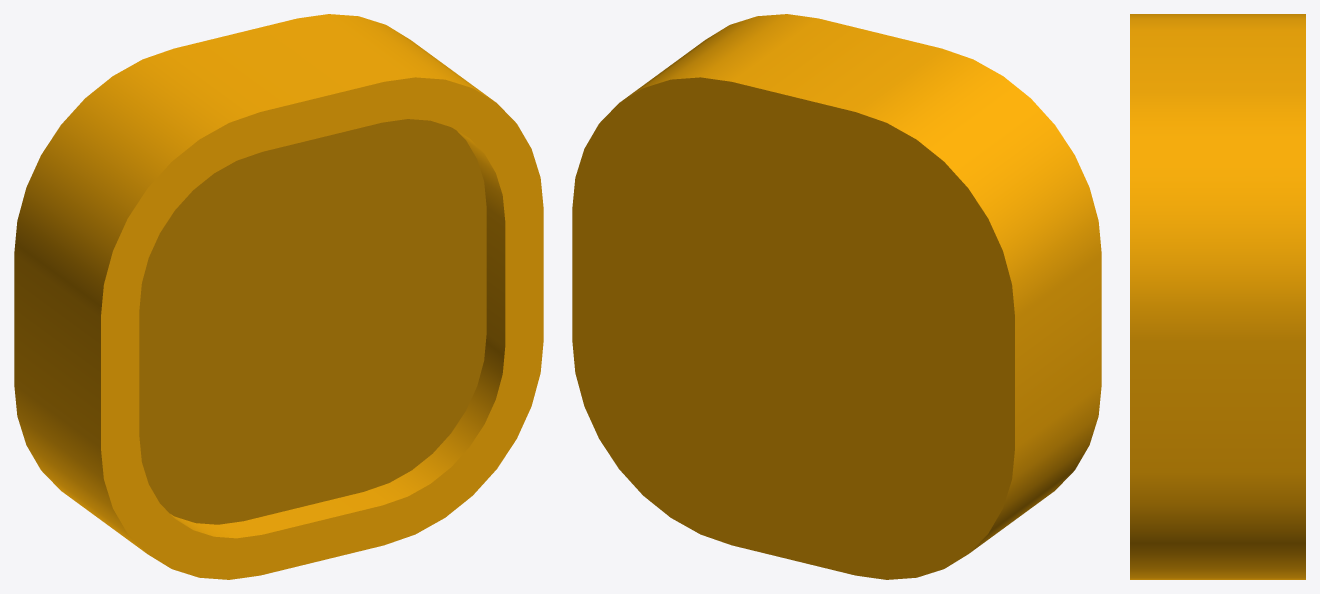
Rendered from day_square.glb.
3 renders of one model, left to right at view 1: azimuth 30°, elevation 25°; view 2: azimuth 150°, elevation 25°; view 3: azimuth 270°, elevation 25°, orthographic.
Visible parts, largest first — view 1: Cube.004; view 2: Cube.004; view 3: Cube.004.
Boxes of the visible parts, left/top/right/bottom form: Cube.004: left=14, top=14, right=543, bottom=579; Cube.004: left=572, top=14, right=1101, bottom=579; Cube.004: left=1130, top=14, right=1305, bottom=579.
Bounding box in the file's own units: 0.2349 × 0.2349 × 0.0796.
